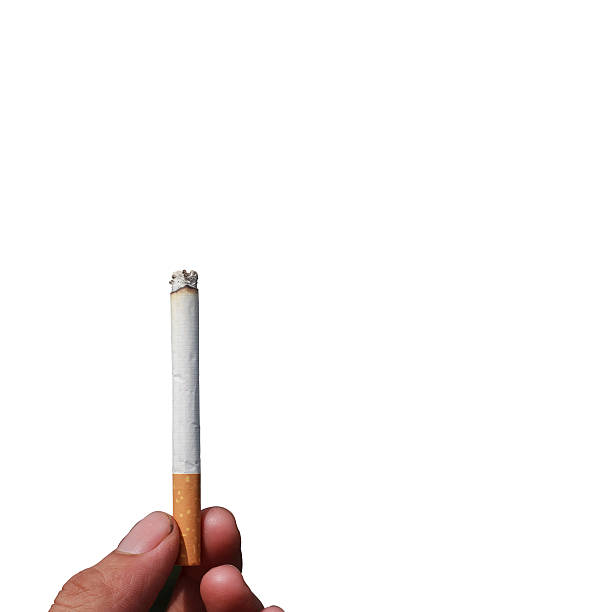cigarette: (170, 270, 199, 568)
